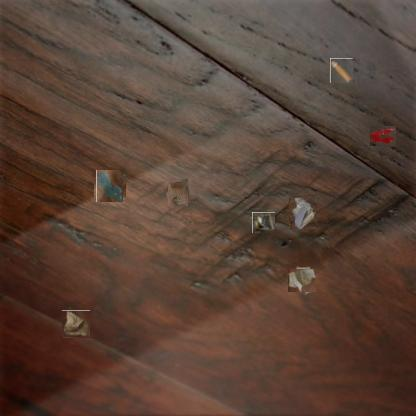dirty: (289, 196, 317, 230), (63, 310, 90, 338), (290, 267, 316, 293), (329, 58, 354, 82), (166, 180, 190, 204), (252, 212, 275, 233)
liquid: (95, 172, 125, 201), (370, 126, 396, 146)
